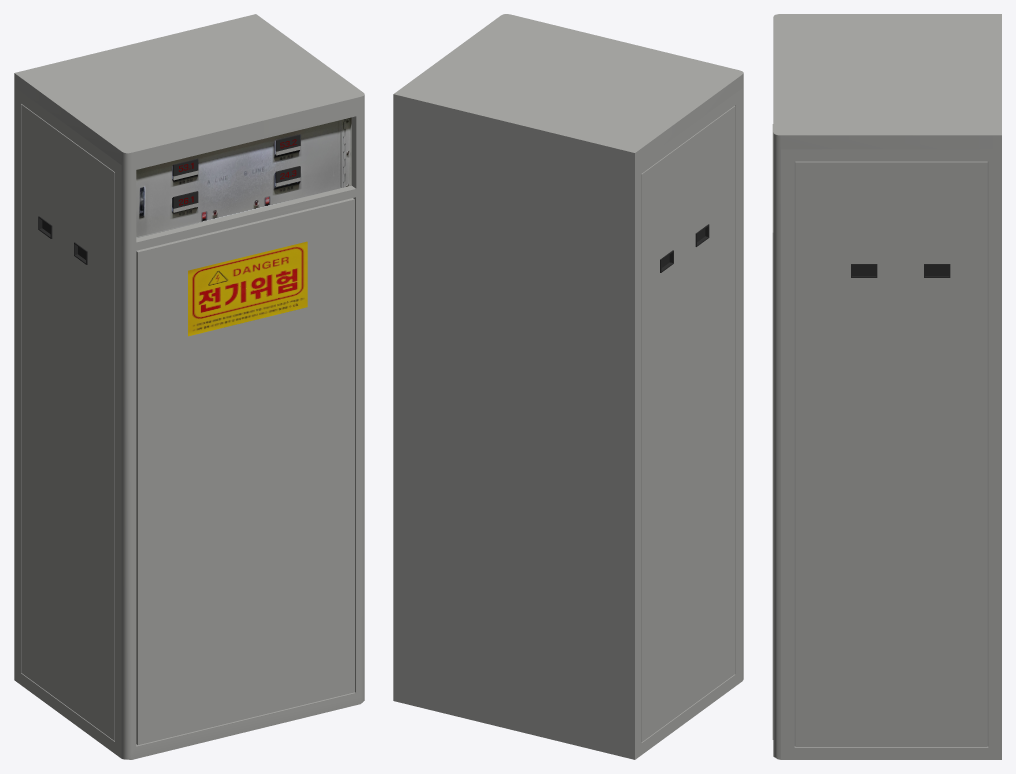
3 views of the same model, side by side, from view 1: azimuth 30°, elevation 25°; view 2: azimuth 150°, elevation 25°; view 3: azimuth 270°, elevation 25° (orthographic). The views are drawn at different scales.
Parts seen in each view (by area): view 1: 이중화분전반,직류,IPD[P]002; view 2: 이중화분전반,직류,IPD[P]002; view 3: 이중화분전반,직류,IPD[P]002.
Part boxes in pixels (box(x1,y1,x2,y2)): 이중화분전반,직류,IPD[P]002: box(14, 14, 364, 759); 이중화분전반,직류,IPD[P]002: box(393, 14, 743, 759); 이중화분전반,직류,IPD[P]002: box(772, 14, 1001, 759).
Bounding box in the file's own units: 0.756 × 1.8 × 0.6.
Materials: 5 (2 with a texture image).
